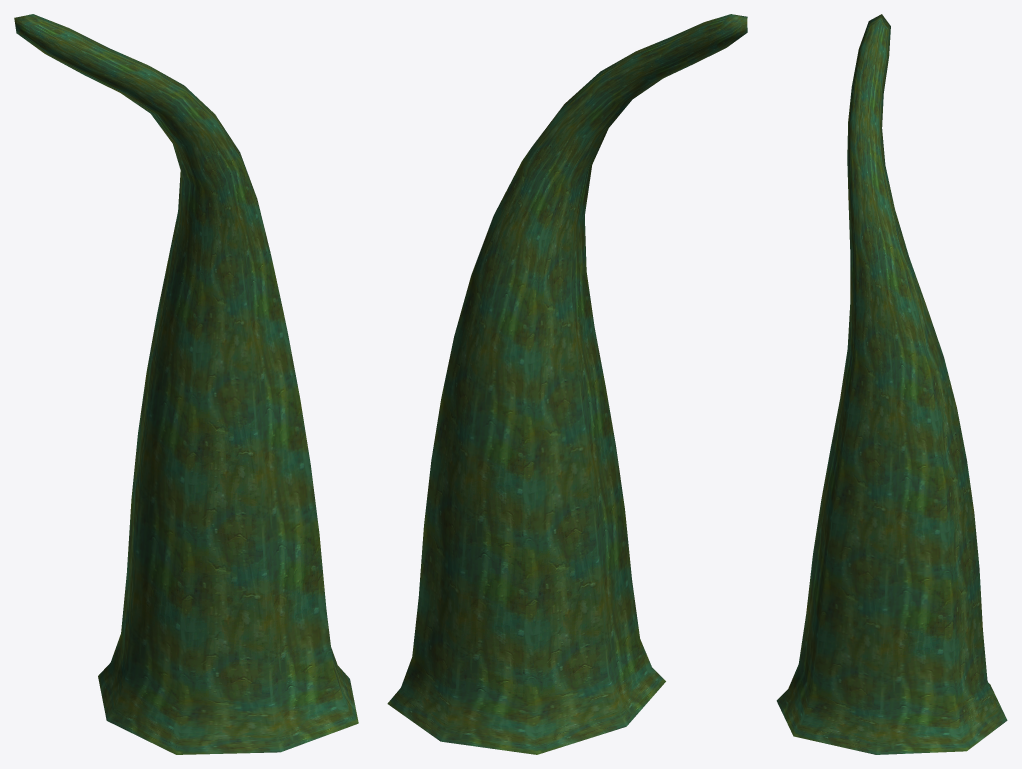
The model's file is MIRKWOOD_MIRK_PLAYSURFACE212.fbx.
The picture shows the model from 3 angles, left to right: view 1: azimuth 30°, elevation 25°; view 2: azimuth 150°, elevation 25°; view 3: azimuth 270°, elevation 25°; orthographic projection. The views are drawn at different scales.
Visible parts, largest first — view 1: MIRKWOOD_MIRK_PLAYSURFACE212; view 2: MIRKWOOD_MIRK_PLAYSURFACE212; view 3: MIRKWOOD_MIRK_PLAYSURFACE212.
Part boxes in pixels (<box>): MIRKWOOD_MIRK_PLAYSURFACE212: <box>14,14,358,754</box>; MIRKWOOD_MIRK_PLAYSURFACE212: <box>387,14,747,754</box>; MIRKWOOD_MIRK_PLAYSURFACE212: <box>776,14,1007,754</box>.
Size of the model in its own units: 73783 by 157803 by 54065.
1 material, 1 textured.
